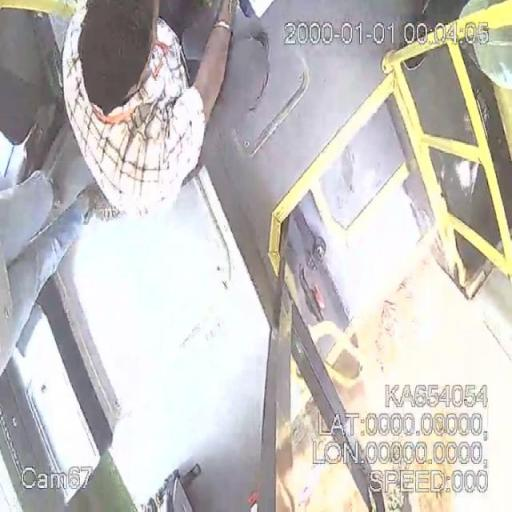persona: (3, 2, 244, 512), (60, 1, 240, 218)
